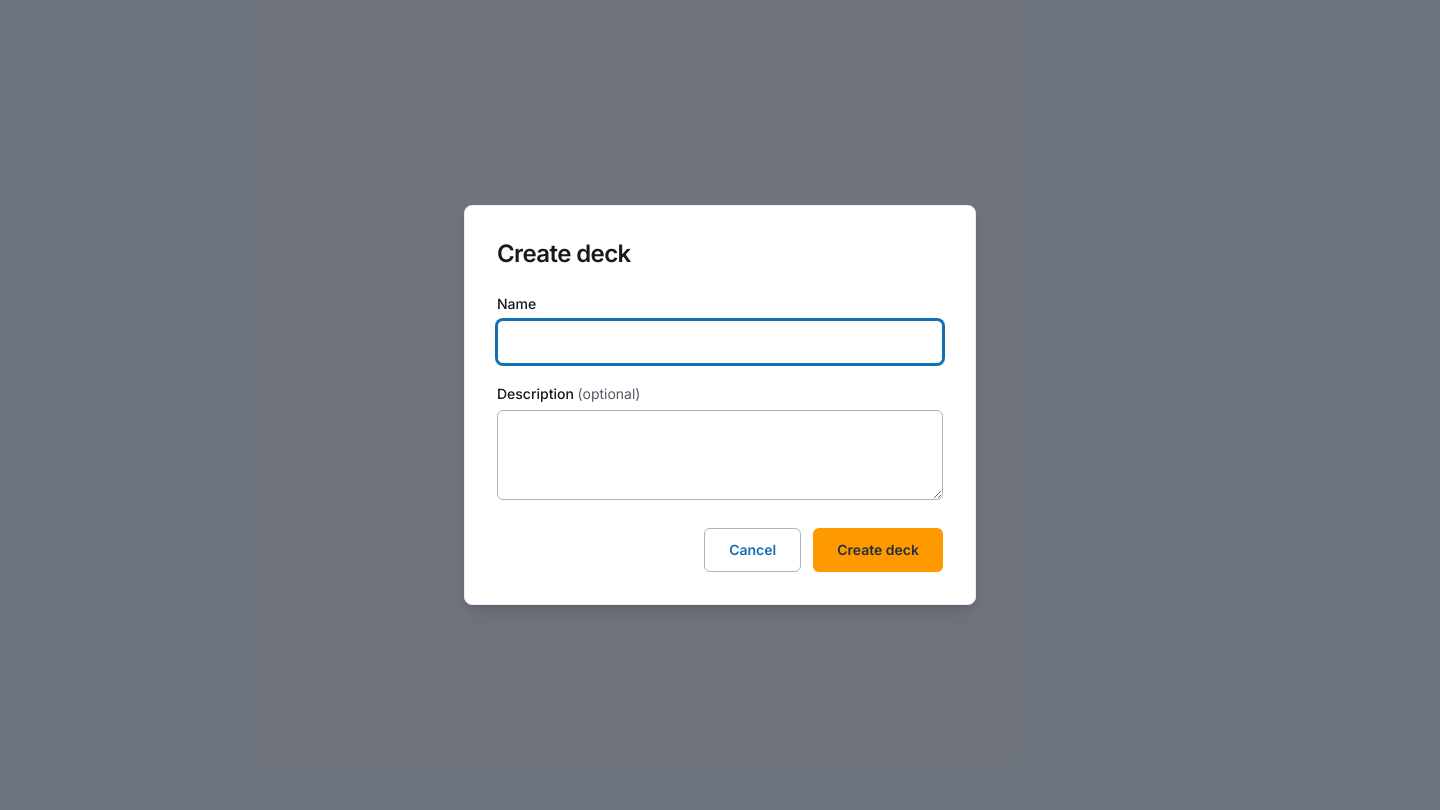
Test: DeckForm — validation failures retain input and stay open › shows a required-name message next to the name field and retains input on empty name
The width and height of the screenshot is (1440, 810).
Type "some notes" into the text box labelled "Description (optional)" at (720, 455), box left=497, top=410, right=943, bottom=500
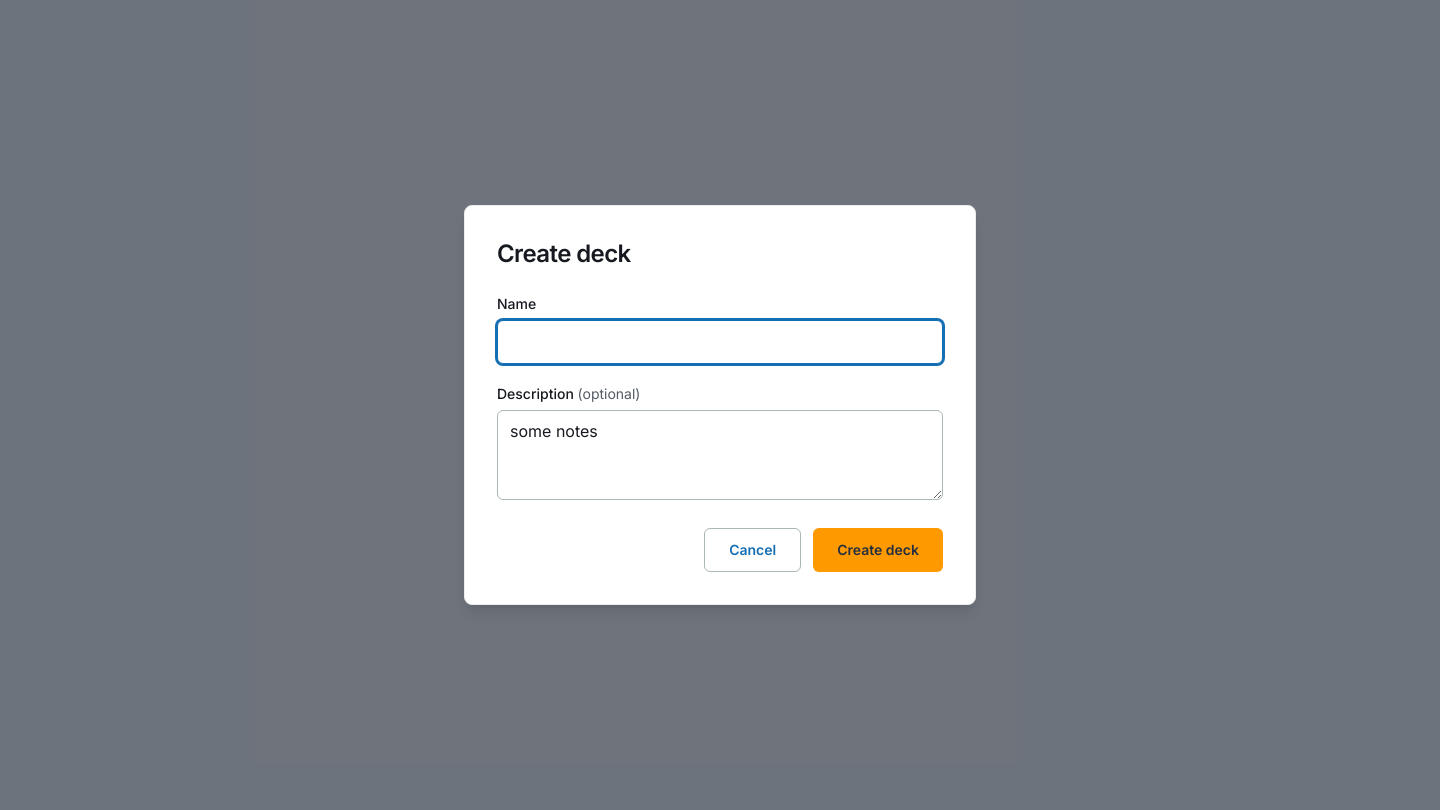
Click the button "Create deck" at (878, 550), box left=813, top=528, right=943, bottom=572
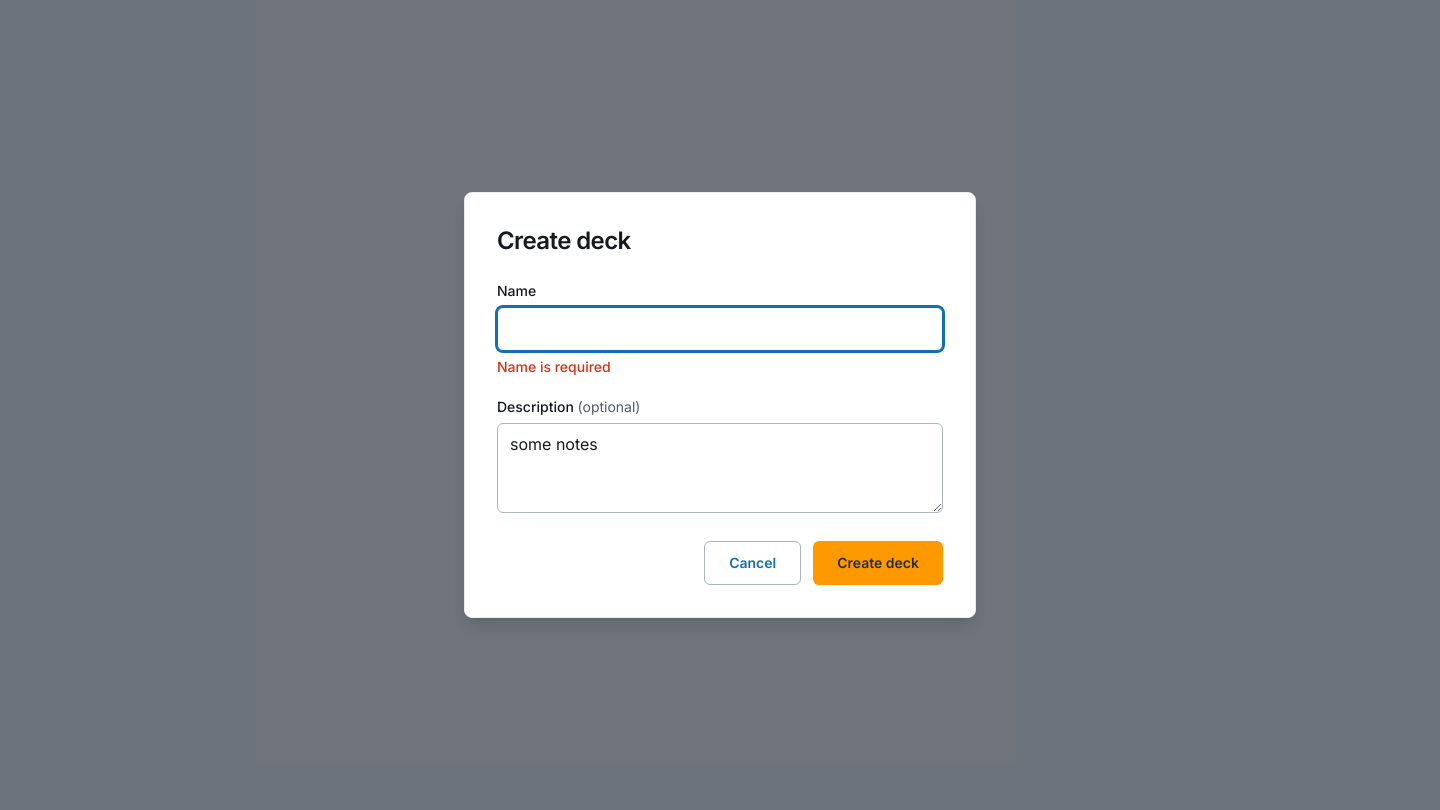
Now the message reads "Name is required", box left=497, top=358, right=611, bottom=375
